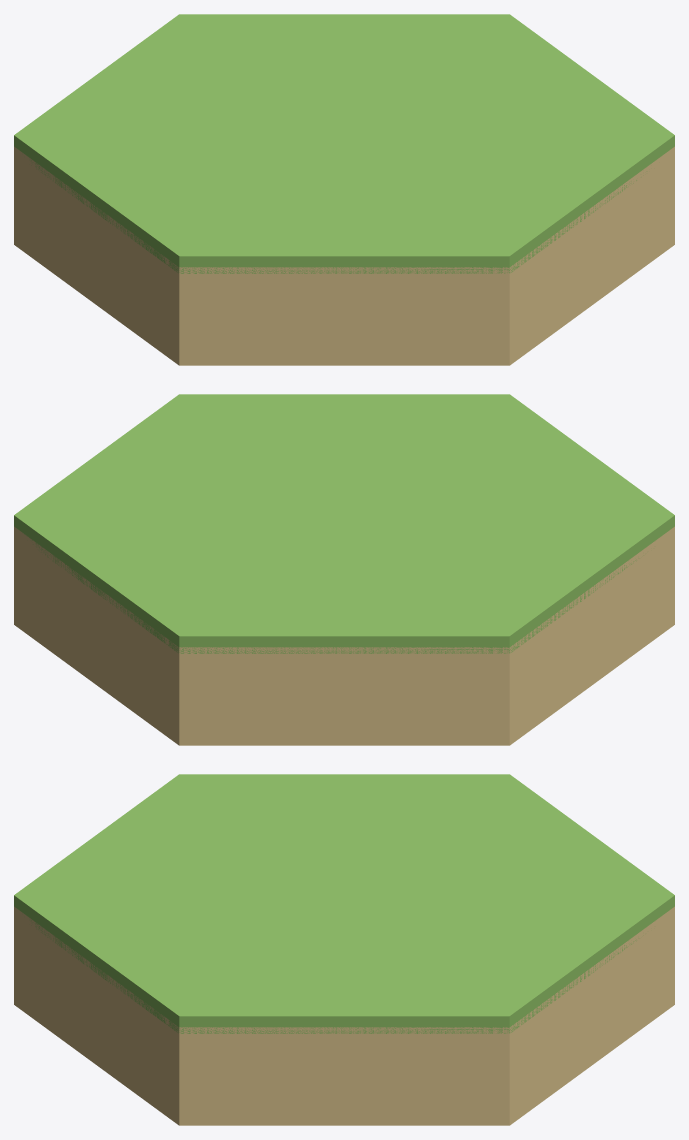
Rendered from land_tile.glb.
3 views of the same model, one above another, from view 1: azimuth 30°, elevation 25°; view 2: azimuth 150°, elevation 25°; view 3: azimuth 270°, elevation 25° (orthographic).
Parts seen in each view (by area): view 1: Grass, Clay edge; view 2: Grass, Clay edge; view 3: Grass, Clay edge.
Boxes of the visible parts, x1,y1,x2,y2 form: Grass: [14, 14, 674, 273]; Clay edge: [14, 146, 674, 365]; Grass: [14, 394, 674, 653]; Clay edge: [14, 526, 674, 745]; Grass: [14, 774, 674, 1033]; Clay edge: [14, 906, 674, 1125].
Bounding box in the file's own units: 2.32 × 0.49 × 2.68.
